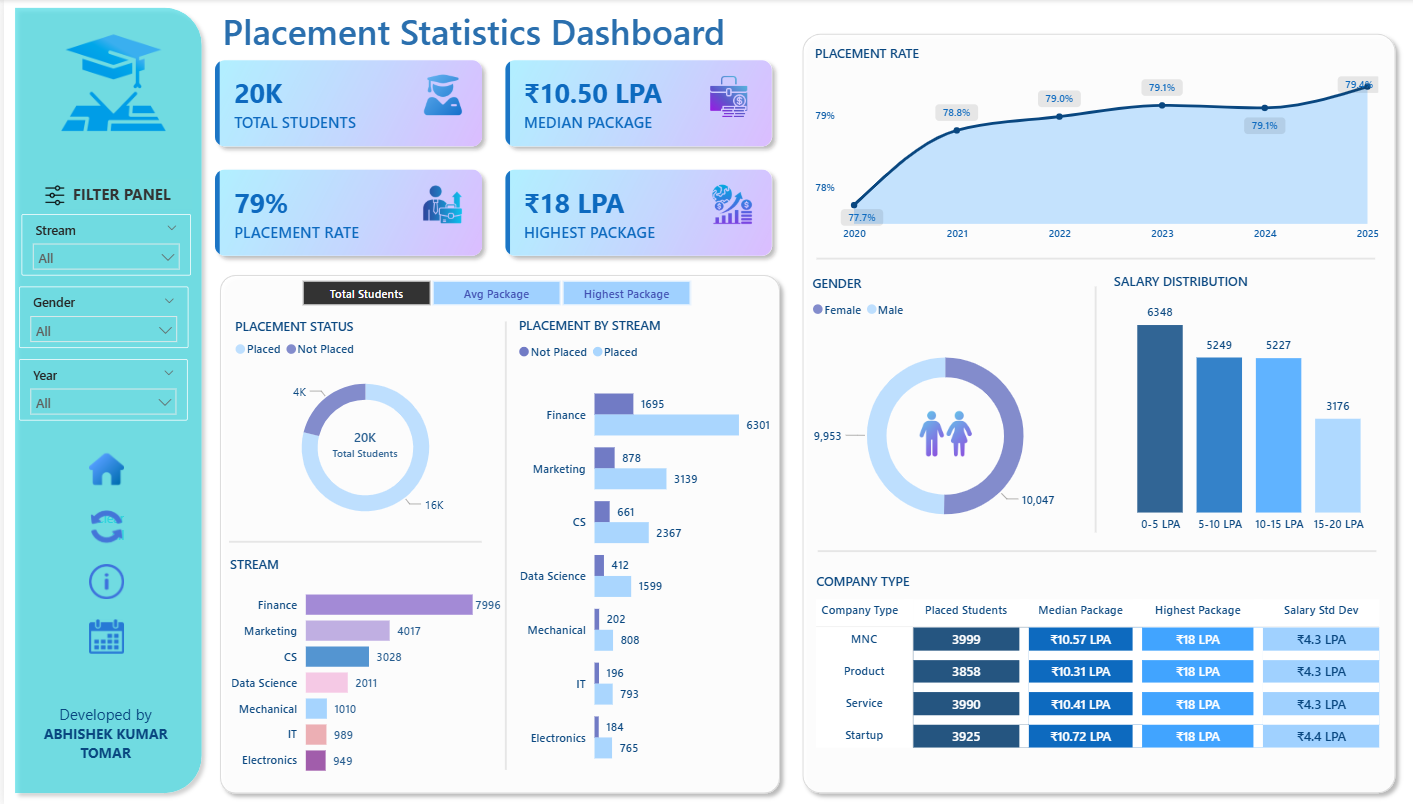

What the dashboard file says about the page in this screenshot:
{"tool":"powerbi","page":{"name":"Dashboard","canvas":[1494,850],"ordinal":0},"visuals":[{"type":"cardVisual","fields":{"Data":["Placement Dataset.Total Students","Placement Dataset.Median Salary","Placement Dataset.Placement Rate","Placement Dataset.Highest Package"]},"box":[205.7,48,620,241.4],"z":0},{"type":"shape","box":[2.9,0,214.5,845],"z":1000},{"type":"textbox","box":[225,4,544.2,59.7],"z":2000},{"type":"shape","box":[218.8,281.2,607.2,563.8],"z":3000},{"type":"donutChart","title":"PLACEMENT STATUS","fields":{"Y":["Placement Dataset.Total Students"],"Category":["Placement Dataset.Placement_Status"]},"box":[237.5,335.2,285,232],"z":4000},{"type":"slicer","fields":{"Values":["Metrics.Metrics"]},"box":[287.7,290,458.7,36.6],"z":5000},{"type":"cardVisual","fields":{"Data":["Placement Dataset.Total Students"]},"box":[318.9,447,123.5,42.1],"z":6000},{"type":"clusteredBarChart","title":"PLACEMENT BY STREAM","fields":{"Y":["Placement Dataset.Total Students"],"Category":["Placement Dataset.Stream"],"Series":["Placement Dataset.Placement_Status"]},"box":[540.6,334.8,268.1,494.2],"z":7000},{"type":"shape","box":[237,562,266,19],"z":8000},{"type":"shape","box":[520,339,17,472],"z":9000},{"type":"barChart","title":"STREAM","fields":{"Y":["Placement Dataset.Total Students"],"Category":["Placement Dataset.Stream"]},"box":[233.3,585,294.2,243.5],"z":10000},{"type":"shape","box":[831.9,27.5,642,817.4],"z":11000},{"type":"lineChart","title":"PLACEMENT RATE","fields":{"Category":["Placement Dataset.Year"],"Y":["Placement Dataset.Placement Rate"]},"box":[843.5,47.8,617.4,215.9],"z":12000},{"type":"shape","box":[855,264,588,17.6],"z":12001},{"type":"donutChart","title":"GENDER","fields":{"Category":["Placement Dataset.Gender"],"Y":["Placement Dataset.Total Students"]},"box":[846.4,289.9,289.9,295.7],"z":12002},{"type":"shape","box":[1142,302,14,259],"z":12003},{"type":"clusteredColumnChart","title":"SALARY DISTRIBUTION","fields":{"Category":["Placement Dataset.Salary Range"],"Y":["CountNonNull(Placement Dataset.Student_ID)"]},"box":[1163.8,288.4,297.1,282.6],"z":12004},{"type":"shape","box":[856.4,572,588,17.6],"z":12005},{"type":"pivotTable","title":"COMPANY TYPE","fields":{"Rows":["Placement Dataset.Company_Type"],"Values":["Placement Dataset.Placed Students","Placement Dataset.Median Package","Placement Dataset.Highest Package","Placement Dataset.Salary Std Dev"]},"box":[850,604.3,608.7,218.8],"z":12006},{"type":"slicer","fields":{"Values":["Placement Dataset.Stream"]},"box":[18.8,226.1,178.3,65],"z":12007},{"type":"slicer","fields":{"Values":["Placement Dataset.Gender"]},"box":[15.9,302.9,178.3,65],"z":12008},{"type":"slicer","fields":{"Values":["Placement Dataset.Year"]},"box":[16,379,177.8,65],"z":12009},{"type":"textbox","box":[55.1,189,142,31.9],"z":12011},{"type":"image","box":[35,193,36,26],"z":12012},{"type":"image","box":[55.1,20,120.3,137],"z":12013},{"type":"image","box":[980,423.2,50.7,68.1],"z":12014},{"type":"image","box":[951,423.2,50,68.1],"z":12015},{"type":"actionButton","box":[85.5,472.5,45,45],"z":12016},{"type":"actionButton","box":[85.5,533,45,45],"z":12017},{"type":"actionButton","box":[85.5,591,45,45],"z":12018},{"type":"actionButton","box":[85.5,649.3,44.9,44.9],"z":12019},{"type":"textbox","box":[17.4,736.2,179.7,87],"z":12020}]}

Visuals, with their boxes in screenshot pixels (x1, y1, x2, y2), scaled from the page's 1494x850 canvas onto the 1413x804 screenshot:
cardVisual - Placement Dataset.Total Students x Placement Dataset.Median Salary: 195,45,781,274
shape: 3,0,206,799
textbox: 213,4,727,60
shape: 207,266,781,799
"PLACEMENT STATUS" donutChart: 225,317,494,537
slicer - Metrics.Metrics: 272,274,706,309
cardVisual - Placement Dataset.Total Students: 302,423,418,463
"PLACEMENT BY STREAM" clusteredBarChart: 511,317,765,784
shape: 224,532,476,550
shape: 492,321,508,767
"STREAM" barChart: 221,553,499,784
shape: 787,26,1394,799
"PLACEMENT RATE" lineChart: 798,45,1382,249
shape: 809,250,1365,266
"GENDER" donutChart: 801,274,1075,554
shape: 1080,286,1093,531
"SALARY DISTRIBUTION" clusteredColumnChart: 1101,273,1382,540
shape: 810,541,1366,558
"COMPANY TYPE" pivotTable: 804,572,1380,779
slicer - Placement Dataset.Stream: 18,214,186,275
slicer - Placement Dataset.Gender: 15,287,184,348
slicer - Placement Dataset.Year: 15,358,183,420
textbox: 52,179,186,209
image: 33,183,67,207
image: 52,19,166,149
image: 927,400,975,465
image: 899,400,947,465
actionButton: 81,447,123,489
actionButton: 81,504,123,547
actionButton: 81,559,123,602
actionButton: 81,614,123,657
textbox: 16,696,186,779
